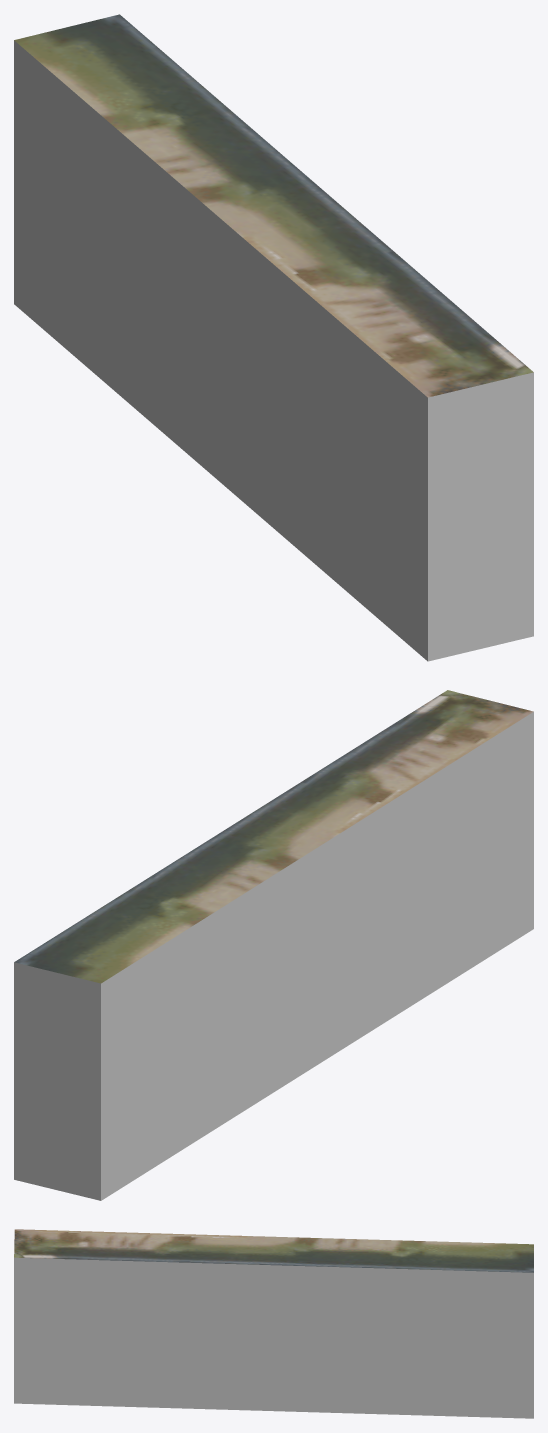
The model's file is DEBW_0010007Txia.gltf.
The picture shows the model from 3 angles, top to bottom: view 1: azimuth 30°, elevation 25°; view 2: azimuth 150°, elevation 25°; view 3: azimuth 270°, elevation 25°; orthographic projection. The views are drawn at different scales.
Visible parts, largest first — view 1: Z_UP; view 2: Z_UP; view 3: Z_UP.
Boxes of the visible parts, x1,y1,x2,y2 form: Z_UP: (14, 14, 533, 661); Z_UP: (14, 690, 533, 1200); Z_UP: (14, 1229, 533, 1418).
Size of the model in its own units: 9.58 by 14.95 by 48.29.
Materials: 2 (1 with a texture image).
